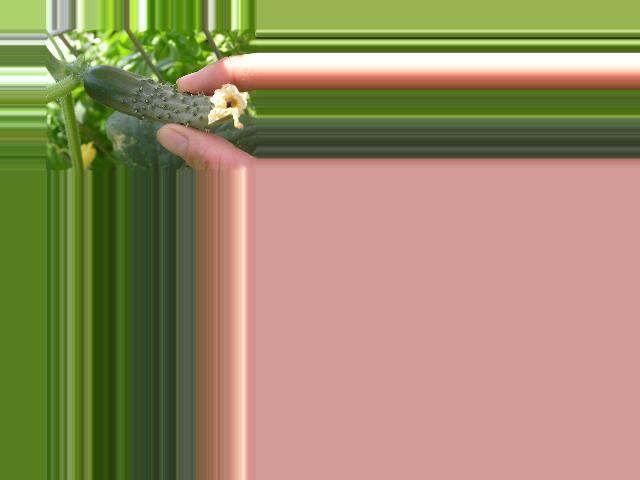cucumber: (82, 65, 247, 129)
